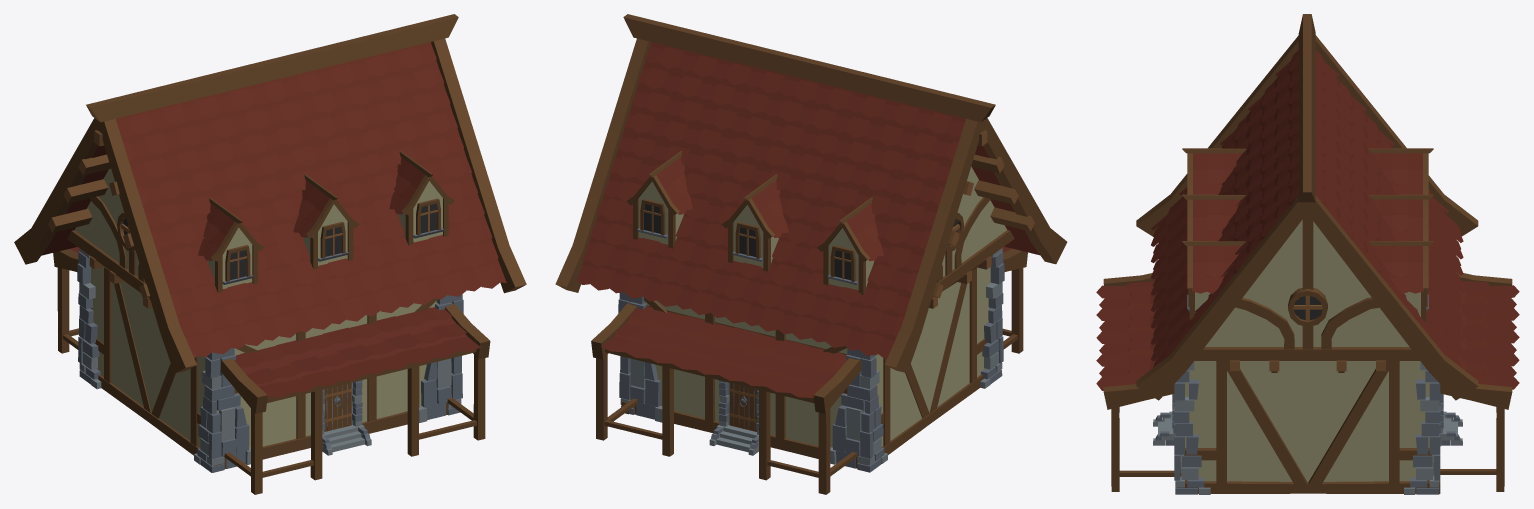
File: b_inn.glb
The picture shows the model from 3 angles, left to right: view 1: azimuth 30°, elevation 25°; view 2: azimuth 150°, elevation 25°; view 3: azimuth 270°, elevation 25°; orthographic projection.
Parts seen in each view (by area): view 1: Inn; view 2: Inn; view 3: Inn.
Boxes of the visible parts, left/top/right/bottom form: Inn: left=14, top=14, right=526, bottom=494; Inn: left=555, top=14, right=1067, bottom=494; Inn: left=1096, top=14, right=1519, bottom=494.
Size of the model in its own units: 4.03 by 3.49 by 4.02.
